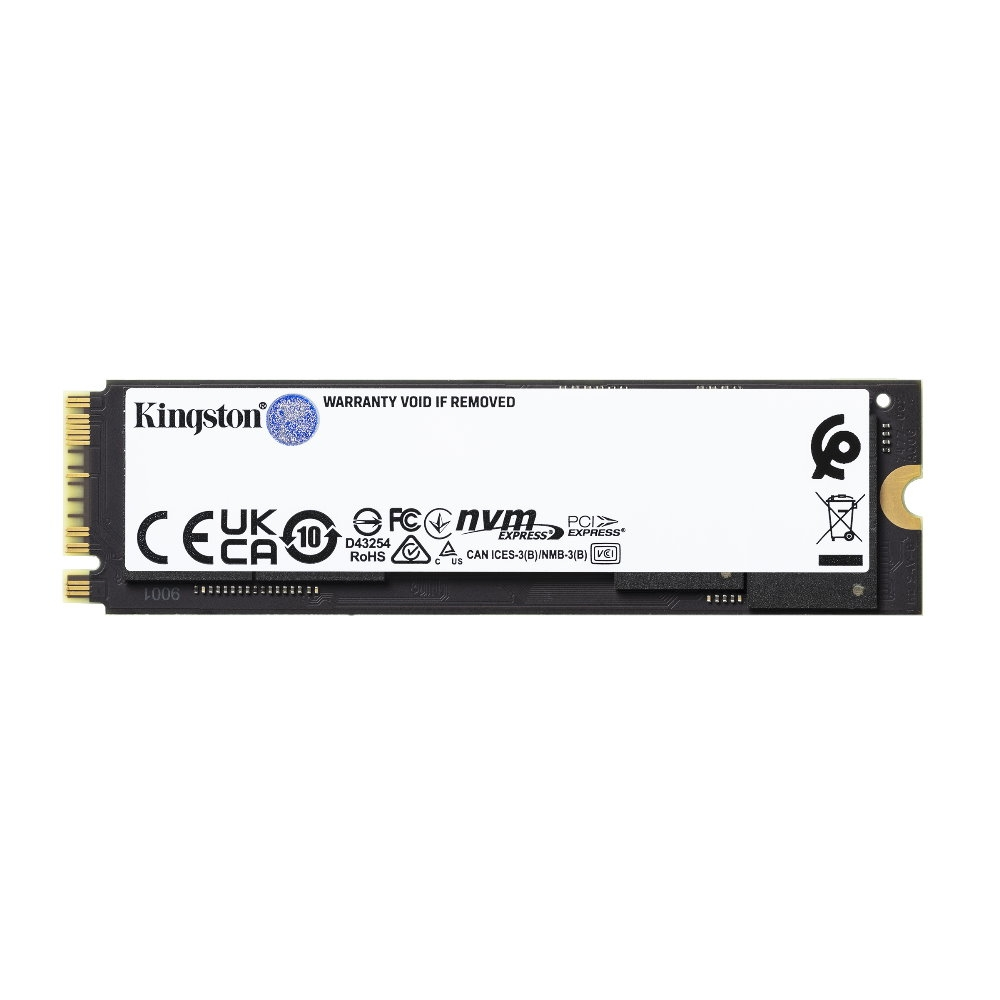ssd2280: (57, 373, 932, 625)
